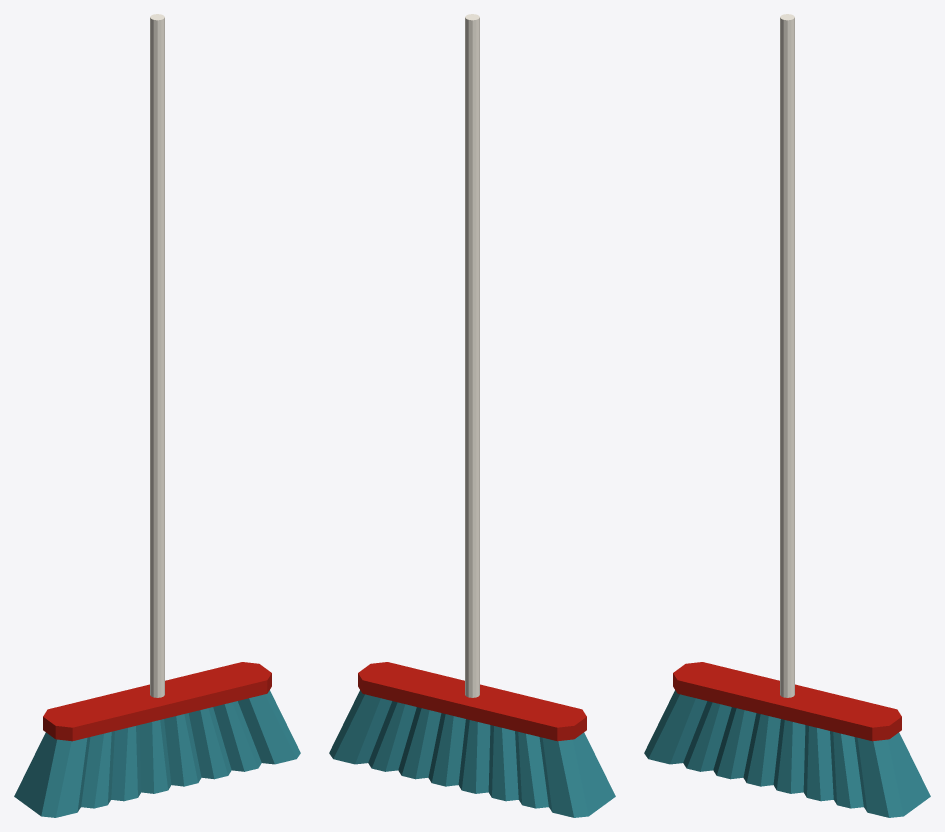
Rendered from M_Sem4_Prop_Besen_FHaufe.fbx.
3 views of the same model, side by side, from view 1: azimuth 30°, elevation 25°; view 2: azimuth 150°, elevation 25°; view 3: azimuth 330°, elevation 25° (orthographic).
Parts seen in each view (by area): view 1: besen; view 2: besen; view 3: besen.
Boxes of the visible parts, x1,y1,x2,y2 form: besen: (14, 14, 300, 817); besen: (329, 14, 615, 817); besen: (644, 14, 930, 817).
Size of the model in its own units: 60 by 167 by 15.
